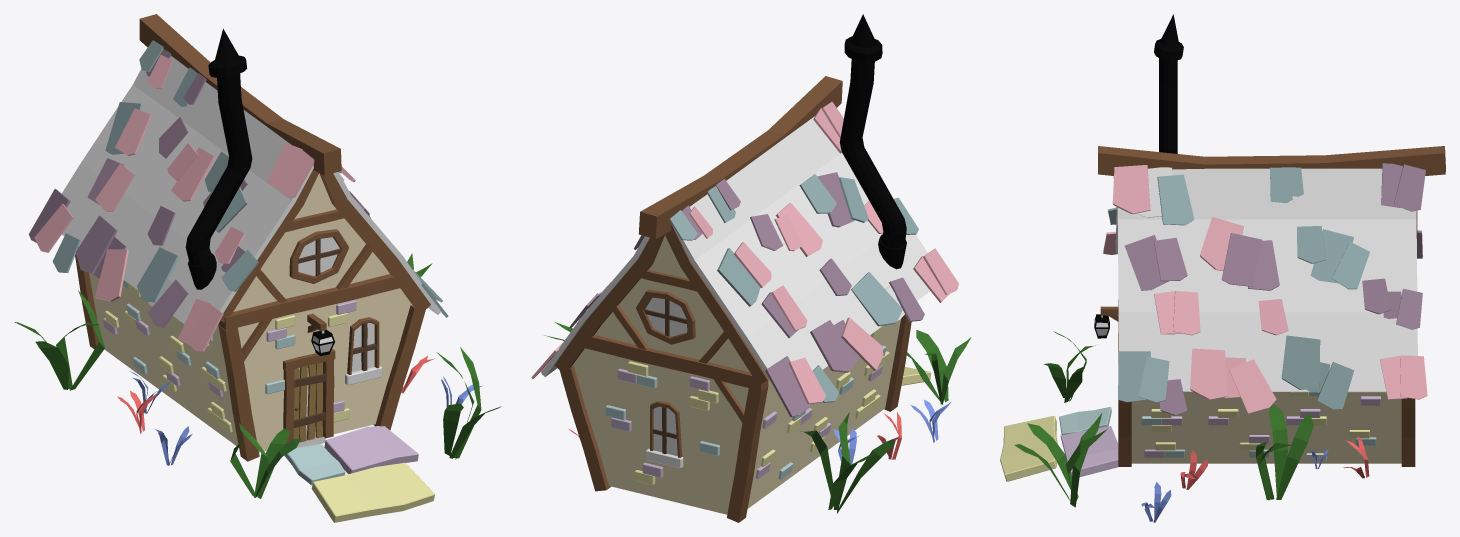
Rendered from casa wow.fbx.
The picture shows the model from 3 angles, left to right: view 1: azimuth 30°, elevation 25°; view 2: azimuth 150°, elevation 25°; view 3: azimuth 270°, elevation 25°; orthographic projection. The views are drawn at different scales.
Parts seen in each view (by area): view 1: Plane.003, Plane, Plane.004, Cylinder, Cube.117, Cube.024, Cube.002, Cube.119, Cube.003, Cube.001, Cube, Plane.015 (+30 smaller); view 2: Plane.003, Plane.005, Plane.004, Cylinder, Cube.024, Cube.014, Cube.013, Cube.015, Cube.016, Plane.018, Cube.012, Cube.164 (+25 smaller); view 3: Plane.001, Plane.002, Cube.024, Cube.091, Cube.079, Cube.083, Plane.019, Cube.076, Cylinder, Cube.117, Cube.080, Cube.082 (+17 smaller).
Boxes of the visible parts, bbox=[...] form: Plane.003: bbox=[62, 56, 313, 324]; Plane: bbox=[233, 173, 412, 452]; Plane.004: bbox=[89, 273, 238, 445]; Cylinder: bbox=[185, 29, 252, 289]; Cube.117: bbox=[311, 462, 434, 522]; Cube.024: bbox=[139, 14, 341, 175]; Cube.002: bbox=[218, 274, 401, 330]; Cube.119: bbox=[324, 426, 418, 474]; Cube.003: bbox=[319, 173, 430, 313]; Cube.001: bbox=[218, 325, 259, 461]; Cube: bbox=[373, 305, 425, 430]; Plane.015: bbox=[437, 347, 501, 459]; Plane.003: bbox=[672, 116, 929, 382]; Plane.005: bbox=[572, 235, 749, 514]; Plane.004: bbox=[747, 319, 900, 508]; Cylinder: bbox=[839, 14, 906, 269]; Cube.024: bbox=[638, 76, 842, 239]; Cube.014: bbox=[578, 334, 768, 390]; Cube.013: bbox=[727, 385, 768, 522]; Cube.015: bbox=[554, 234, 664, 373]; Cube.016: bbox=[665, 224, 768, 385]; Plane.018: bbox=[800, 412, 894, 513]; Cube.012: bbox=[559, 366, 611, 491]; Cube.164: bbox=[851, 272, 902, 326]; Plane.001: bbox=[1117, 168, 1417, 392]; Plane.002: bbox=[1131, 392, 1401, 463]; Cube.024: bbox=[1098, 146, 1445, 175]; Cube.091: bbox=[1190, 348, 1276, 413]; Cube.079: bbox=[1297, 226, 1369, 289]; Cube.083: bbox=[1281, 335, 1354, 409]; Plane.019: bbox=[1256, 404, 1313, 500]; Cube.076: bbox=[1221, 233, 1279, 290]; Cylinder: bbox=[1154, 14, 1183, 153]; Cube.117: bbox=[1000, 416, 1057, 481]; Cube.080: bbox=[1125, 235, 1187, 290]; Cube.082: bbox=[1118, 351, 1169, 402].
Size of the model in its own units: 5.63 by 6.24 by 6.37.
